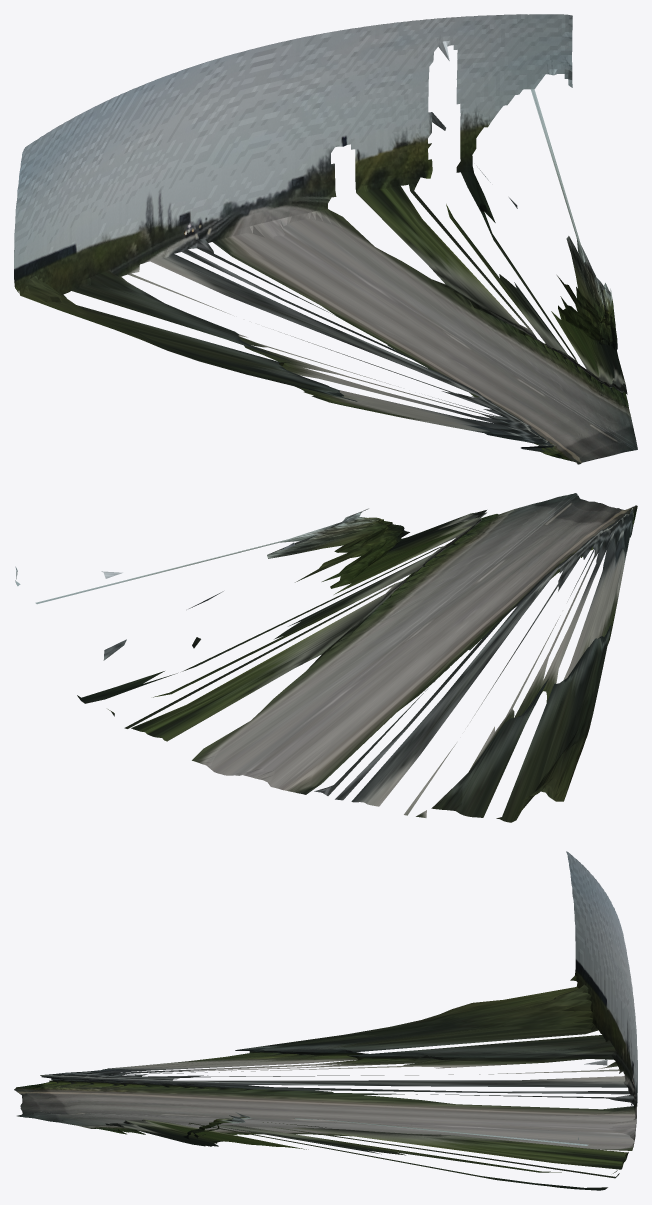
3 renders of one model, top to bottom at view 1: azimuth 30°, elevation 25°; view 2: azimuth 150°, elevation 25°; view 3: azimuth 270°, elevation 25°, orthographic. The views are drawn at different scales.
Parts seen in each view (by area): view 1: defaultobject; view 2: defaultobject; view 3: defaultobject.
Boxes of the visible parts, x1,y1,x2,y2 form: defaultobject: (14,14,637,464); defaultobject: (15,493,637,822); defaultobject: (14,851,637,1190).
Bounding box in the file's own units: 41.05 × 13.81 × 44.84.
Materials: 1 (1 with a texture image).
